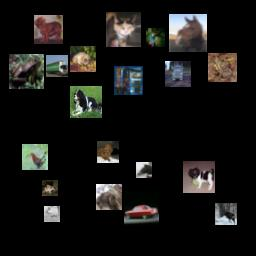automobile: (124, 191, 159, 226)
bird: (22, 144, 48, 170), (146, 28, 165, 47)
cat: (106, 12, 141, 47), (96, 184, 122, 210), (70, 46, 96, 72)
deer: (215, 203, 237, 225), (44, 206, 60, 222)
dog: (70, 86, 102, 118), (183, 161, 215, 193), (34, 15, 63, 44), (97, 141, 119, 163)
frog: (9, 54, 44, 89), (208, 53, 237, 82), (42, 180, 58, 196)
truck: (114, 66, 143, 95), (165, 61, 191, 87), (46, 55, 68, 77)
